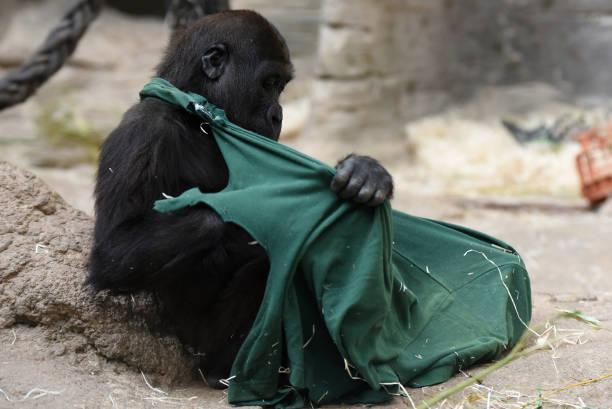gorille_Autres: (119, 0, 525, 382)
